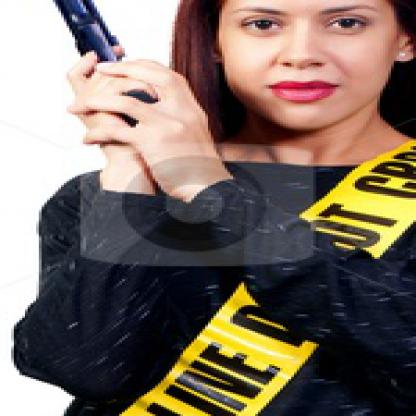gun: (16, 0, 166, 139)
